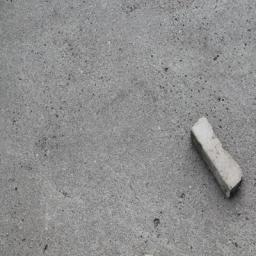FOD: (188, 115, 248, 201)
